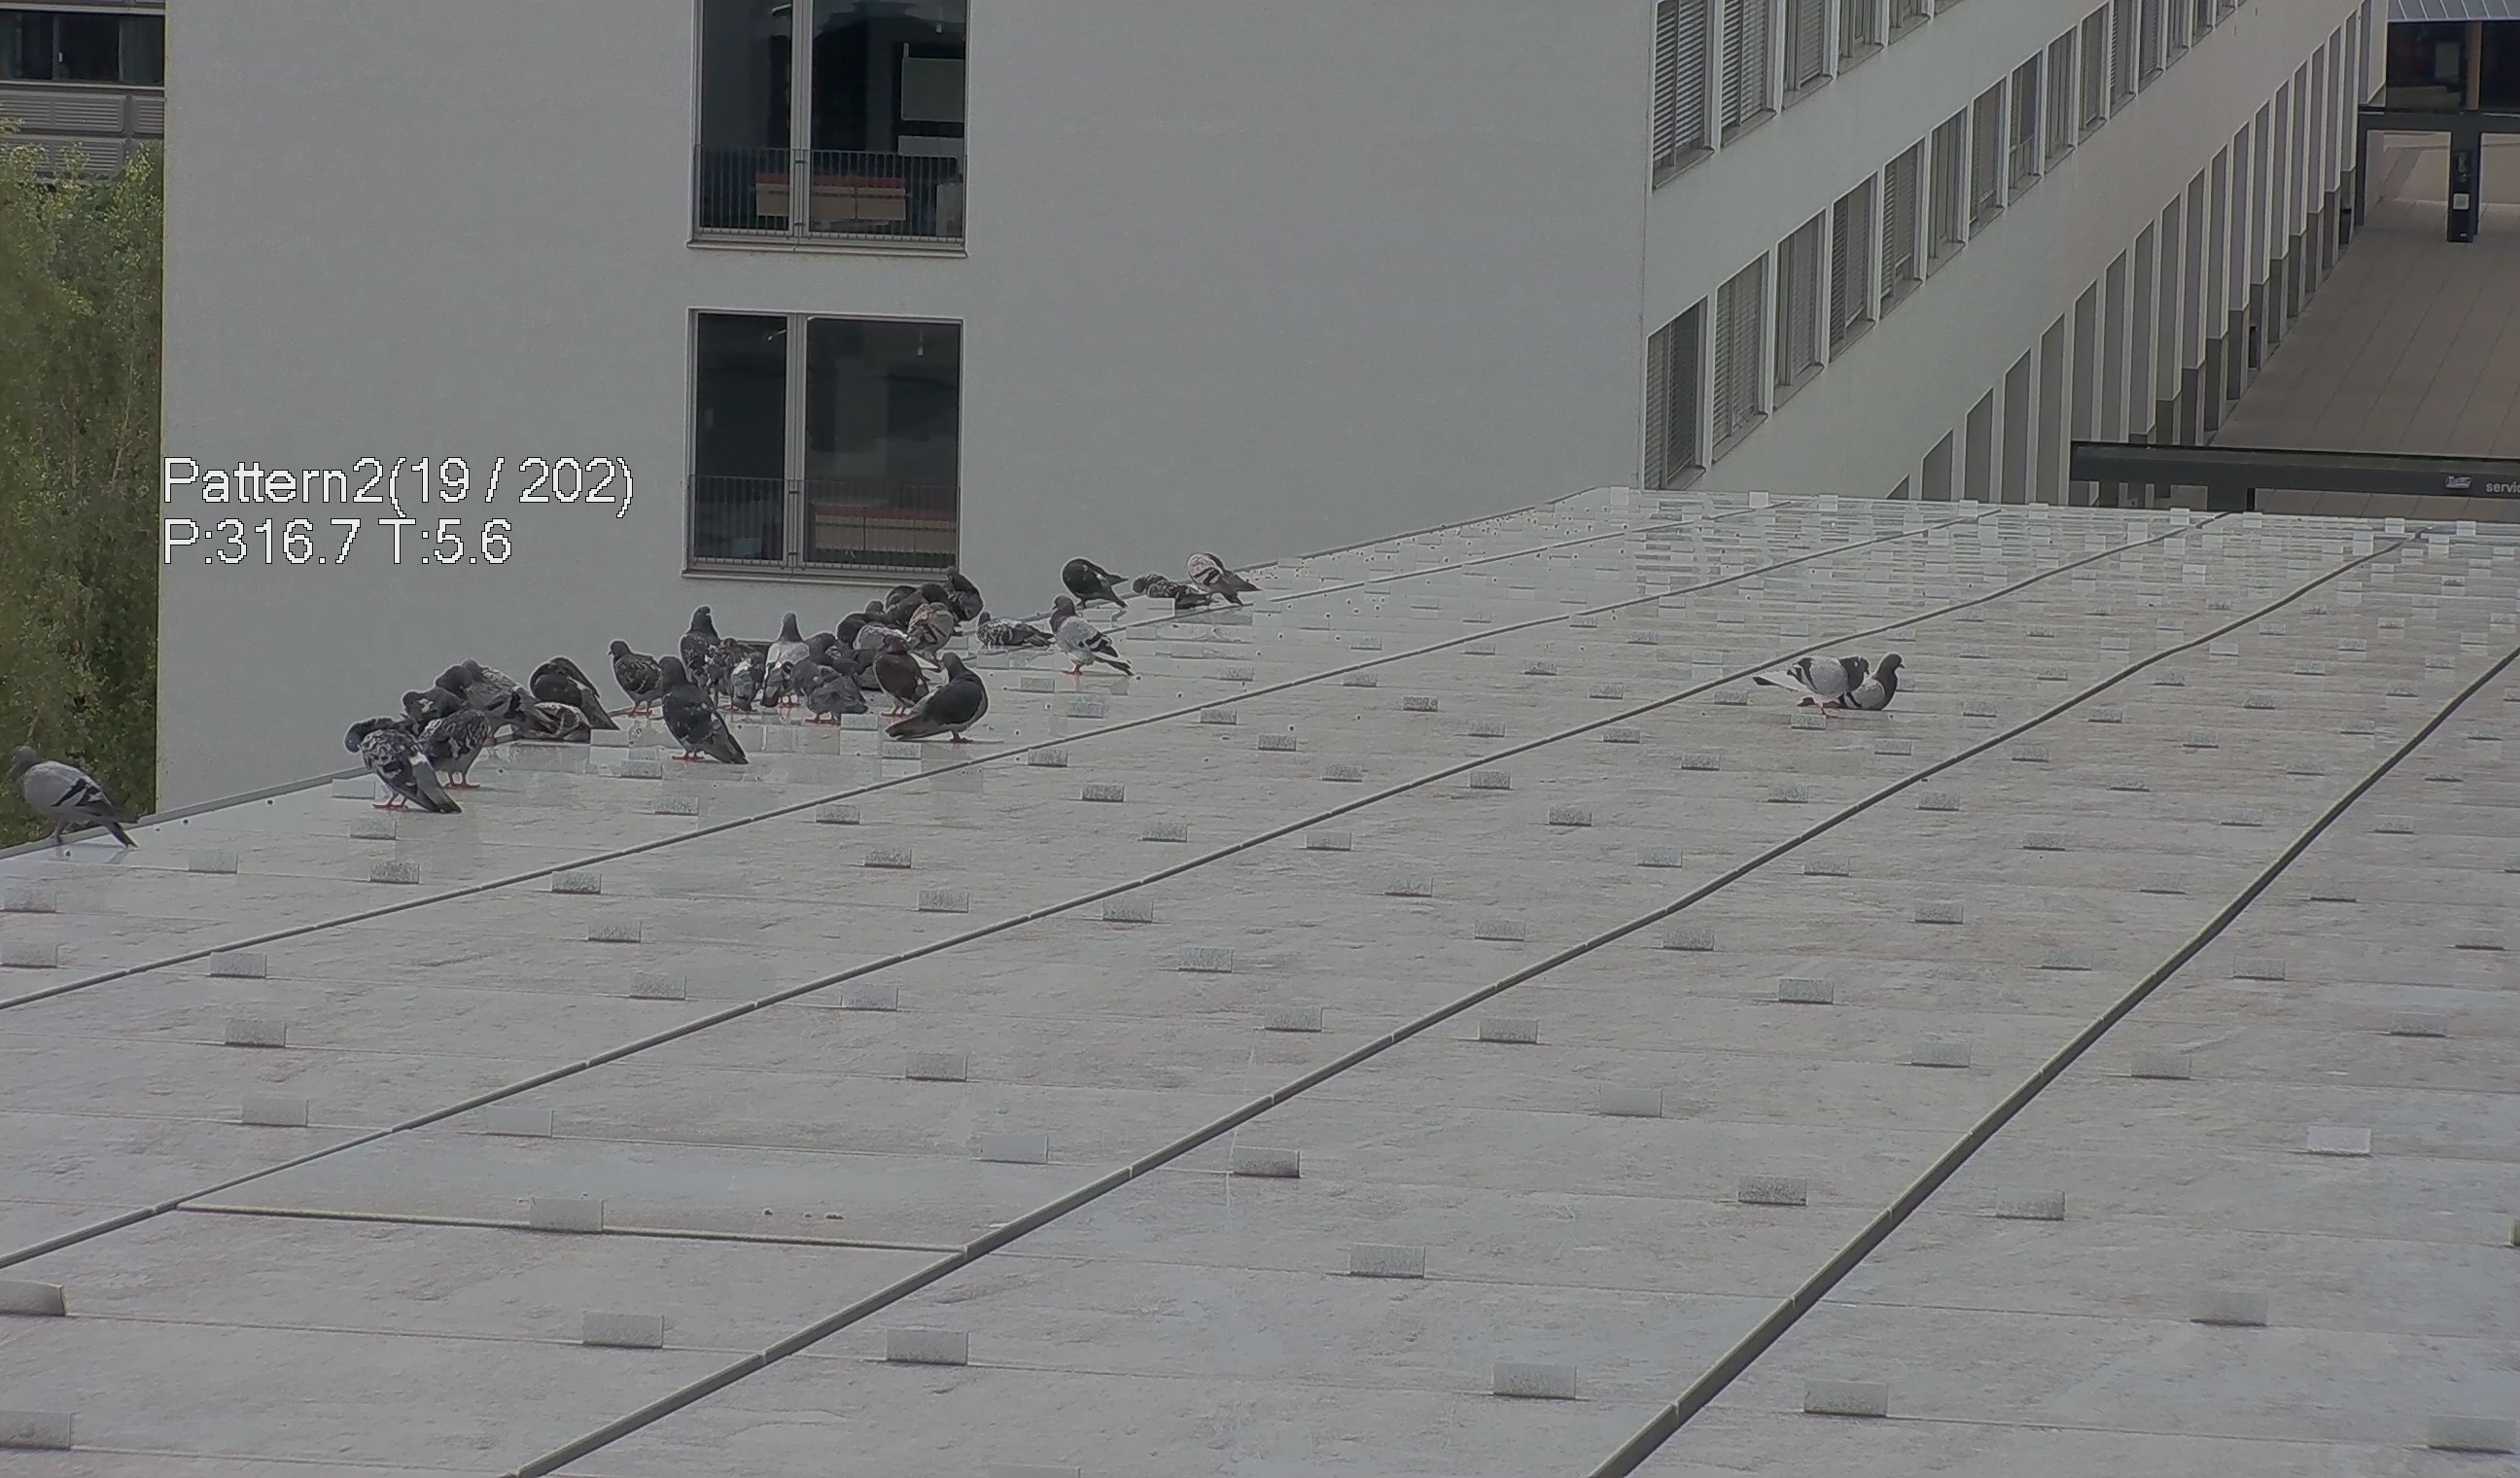Pigeon: (16, 741, 151, 867), (325, 699, 459, 823), (870, 649, 990, 753), (649, 655, 749, 771), (1036, 586, 1140, 684), (1734, 653, 1871, 727), (538, 648, 617, 751), (749, 611, 821, 718), (607, 630, 674, 720), (1848, 642, 1920, 723), (1178, 549, 1268, 607), (902, 581, 972, 651), (1059, 552, 1134, 612), (1133, 570, 1212, 621), (971, 607, 1059, 649), (679, 596, 726, 674), (839, 593, 909, 642)
